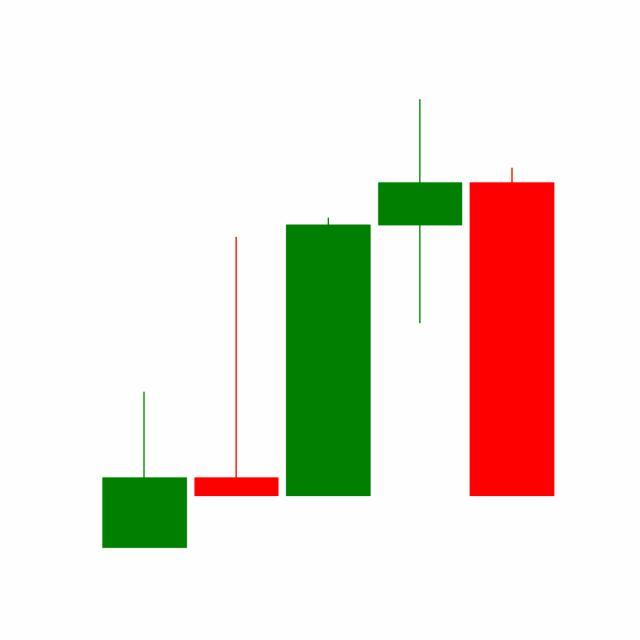Hanging Man: (374, 97, 468, 327)
